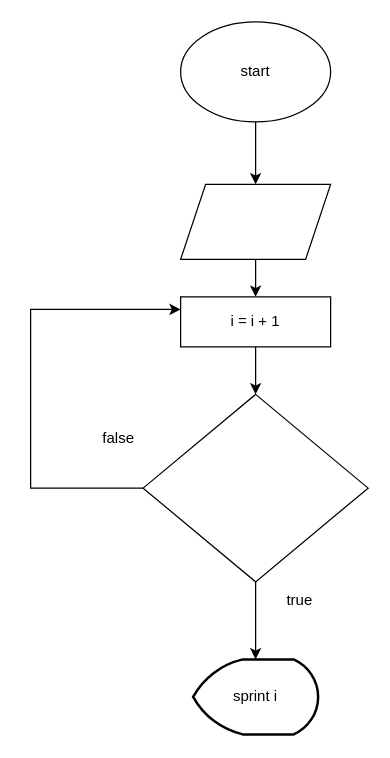
The diagram is 390 pixels wide and 758 high, and some of its shapes have lost their labels. The shapes that lost their labels are listed below. From the top down, each one's centre as x and y in pixels, then its label:
At pixel 255 221: "int a,i;".
At pixel 255 487: "if a%i==0".
